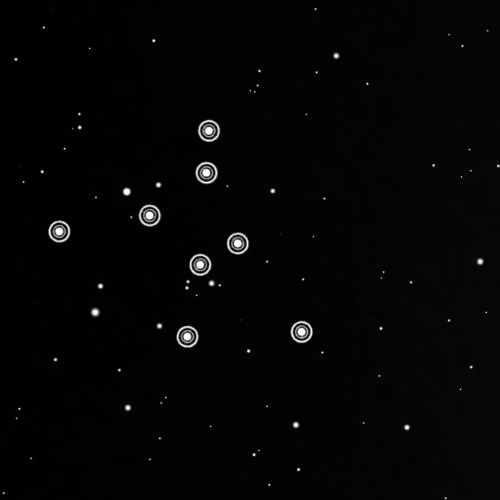hercules: (44, 115, 317, 355)
